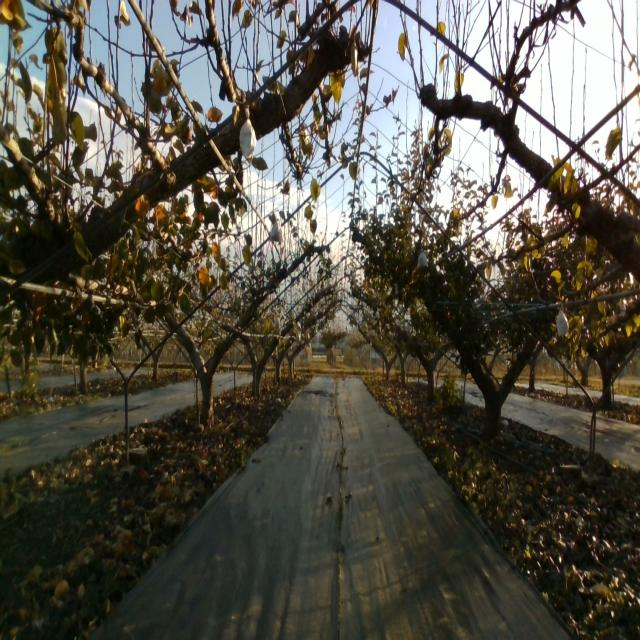pearbags: (239, 108, 257, 164), (268, 216, 284, 244), (556, 308, 570, 337), (416, 250, 429, 270)
